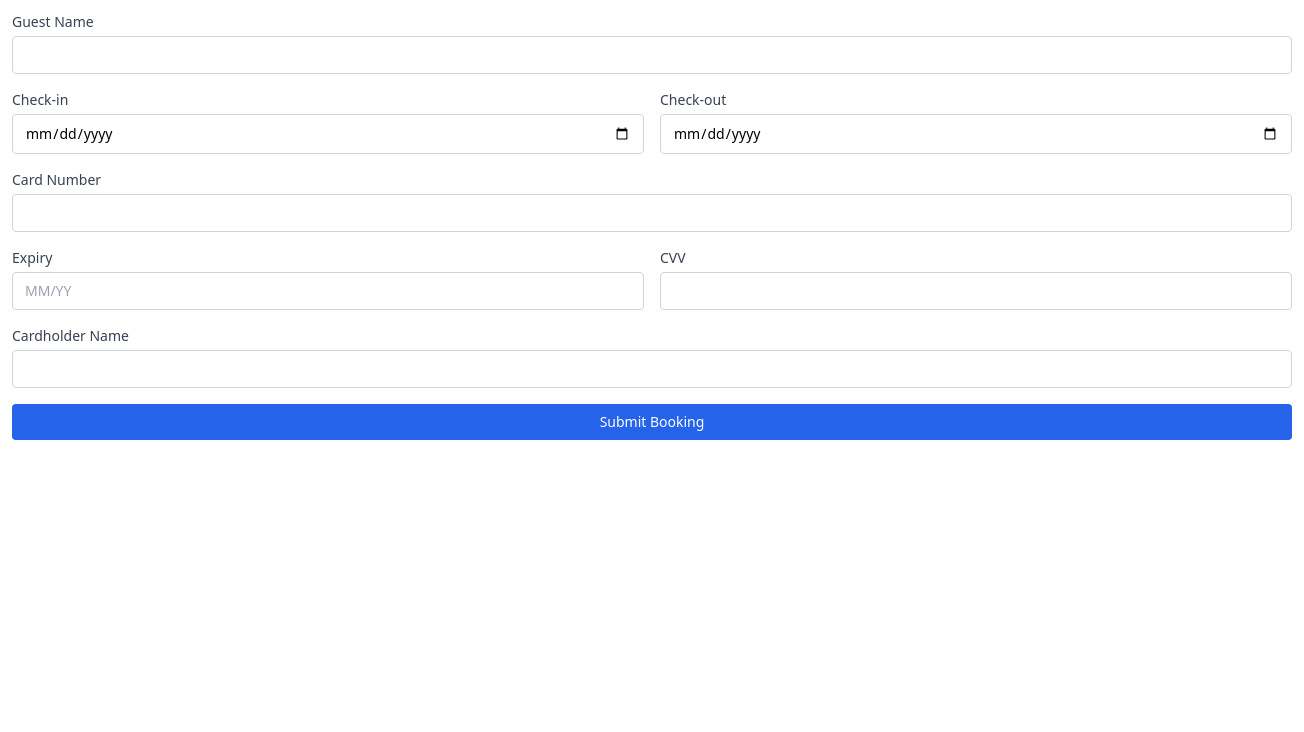
Test: shows required-field errors on empty submit
The width and height of the screenshot is (1304, 732).
Step 1. Click the button "Submit Booking" → (652,422), box [12,404,1292,440]
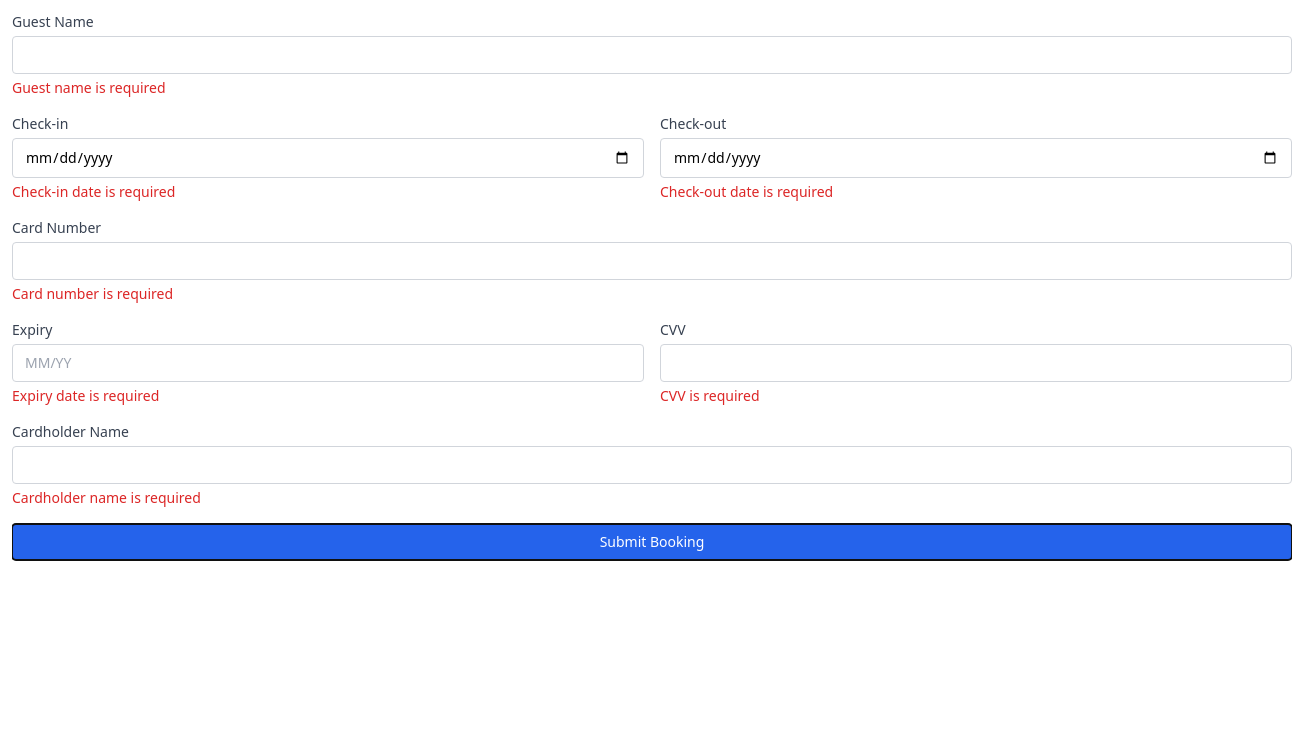
Check: the text "Guest name is required" is shown, box [12,78,166,97]
Check: the text "Check-in date is required" is shown, box [12,182,175,201]
Check: the text "Card number is required" is shown, box [12,284,173,303]
